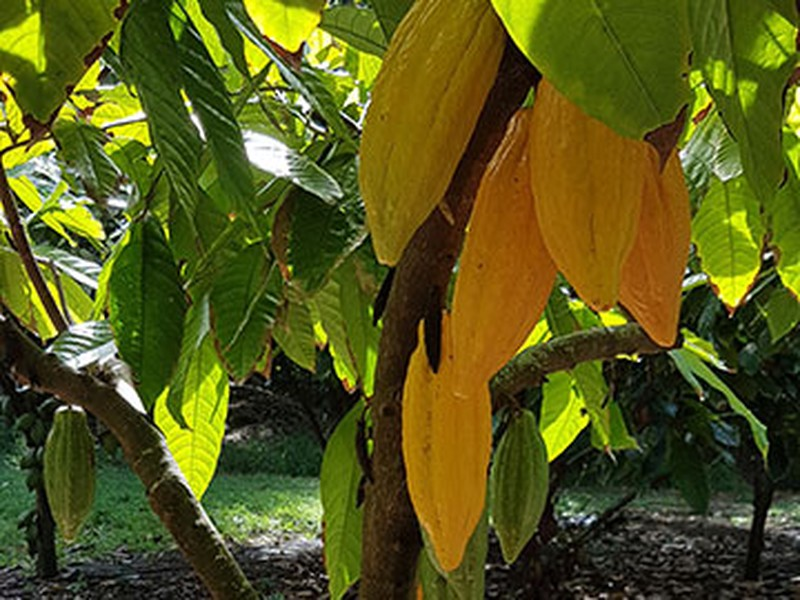Cacaopod: (401, 313, 493, 567)
